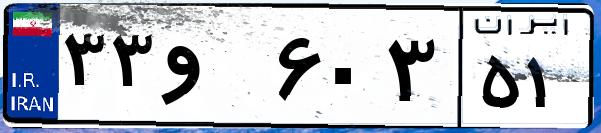0: (330, 28, 385, 110)
1: (525, 38, 570, 115)
3: (385, 28, 445, 110), (57, 26, 110, 100), (110, 28, 158, 98)
5: (475, 38, 525, 113)
6: (270, 28, 330, 110)
و: (158, 20, 270, 120)
